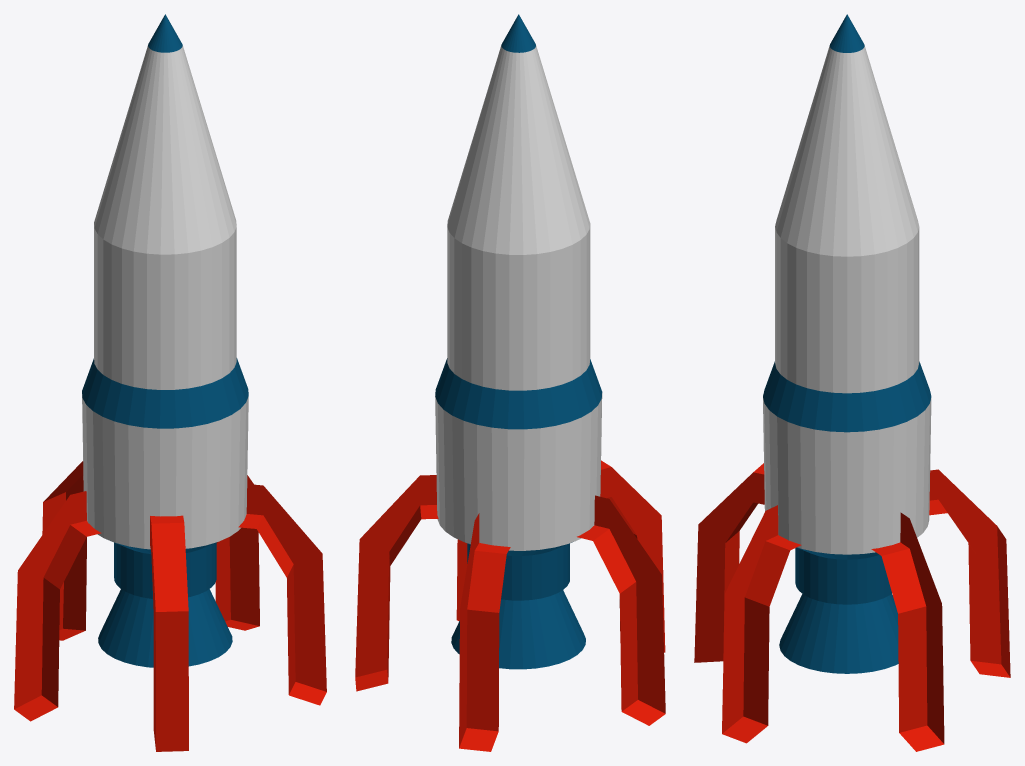
The model's file is scene_8EWunt11XG.glb.
3 views of the same model, side by side, from view 1: azimuth 30°, elevation 25°; view 2: azimuth 150°, elevation 25°; view 3: azimuth 270°, elevation 25° (orthographic).
Visible parts, largest first — view 1: Cone; view 2: Cone; view 3: Cone.
Part boxes in pixels (box(x1,y1,x2,y2)): Cone: box(14, 14, 326, 751); Cone: box(355, 14, 665, 751); Cone: box(694, 14, 1010, 751).
Bounding box in the file's own units: 4.86 × 11.52 × 4.89.
